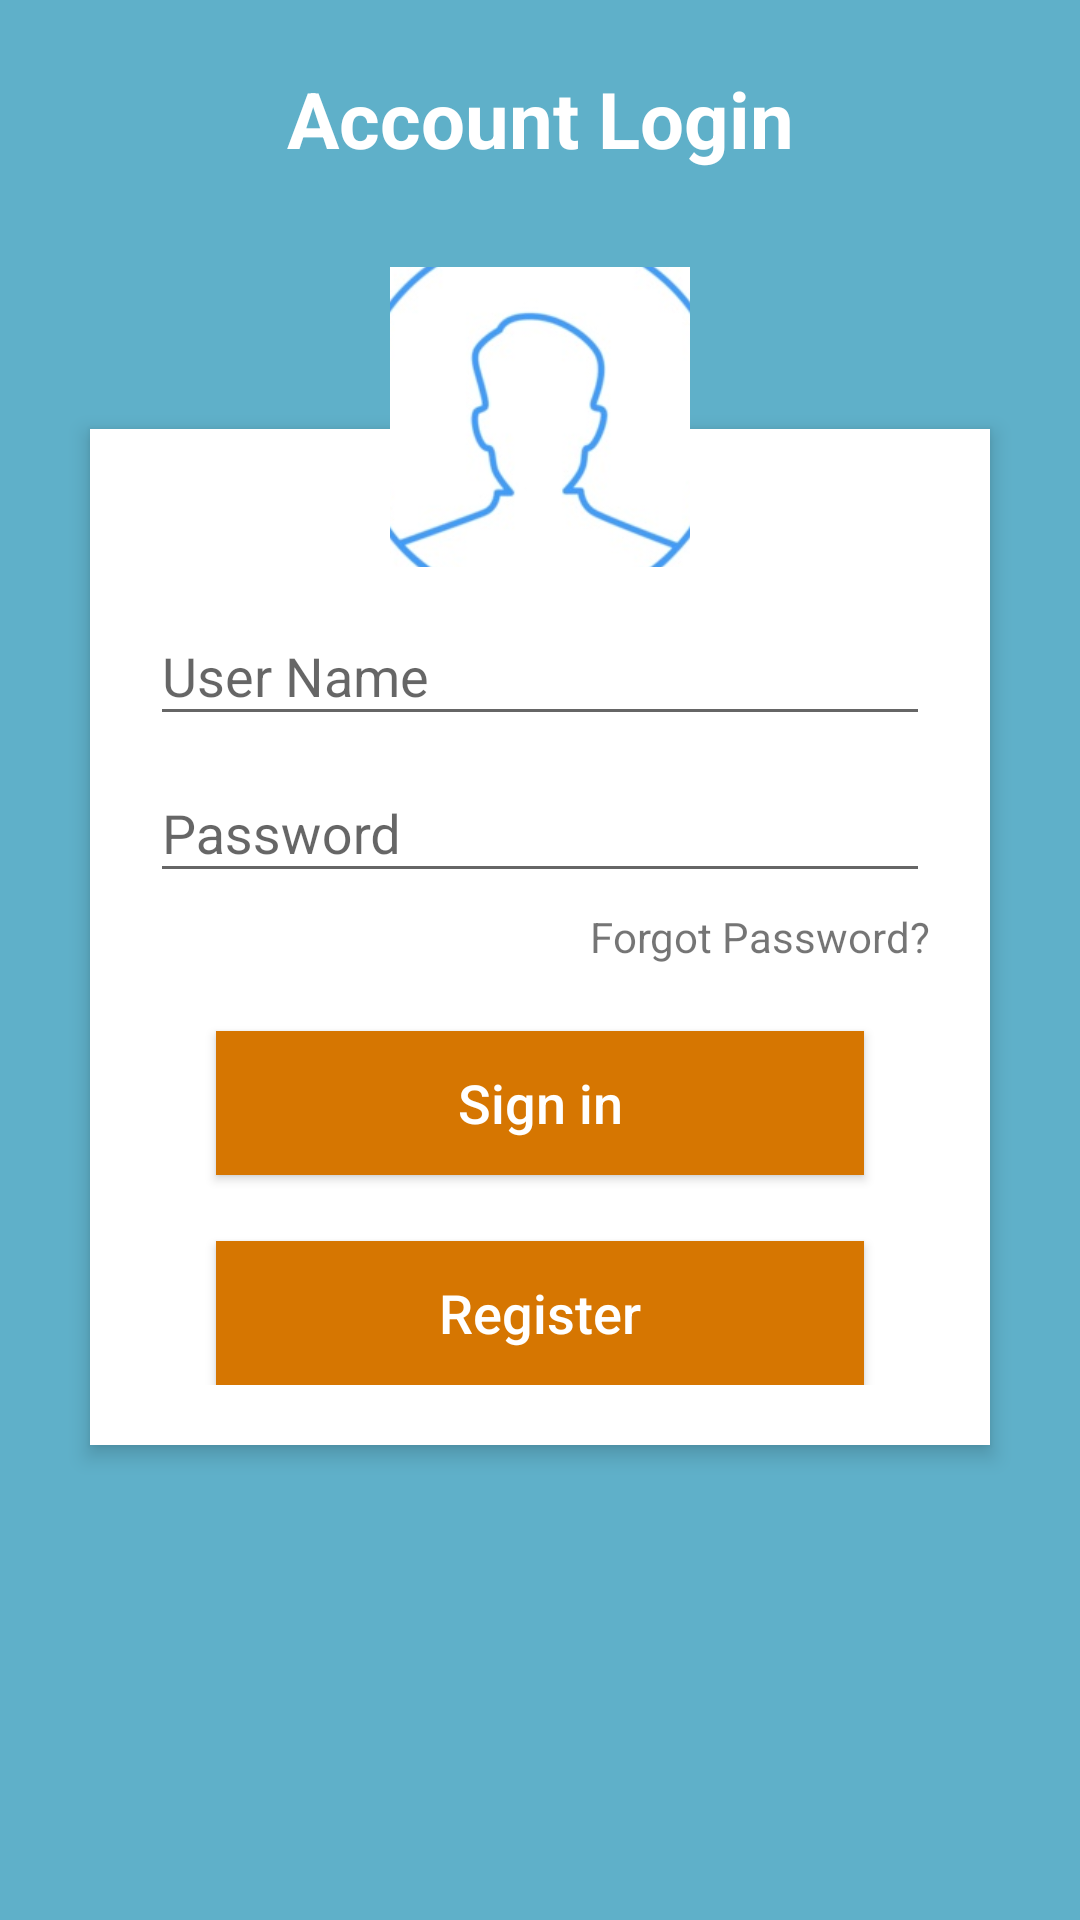

Named icons in this screenshot (1080*1920) and their centers, [x,y]:
member: [540,417]
